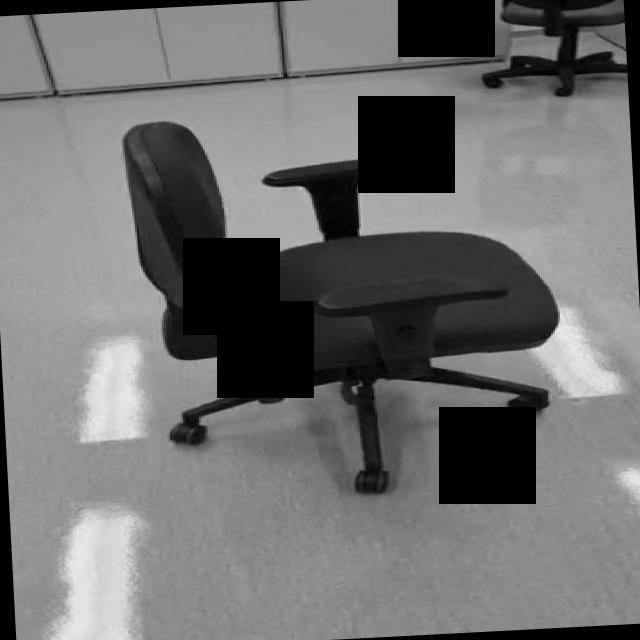cadeira-azul: (122, 101, 570, 508)
